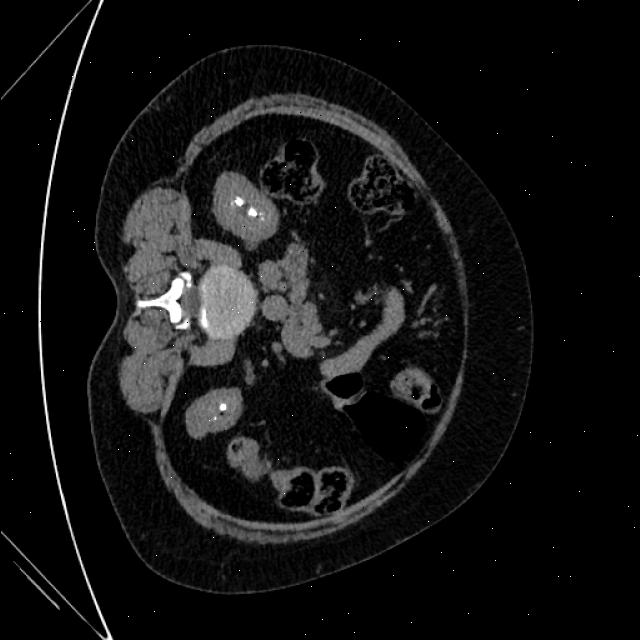kidneystone: (233, 196, 244, 208), (247, 206, 258, 218)
